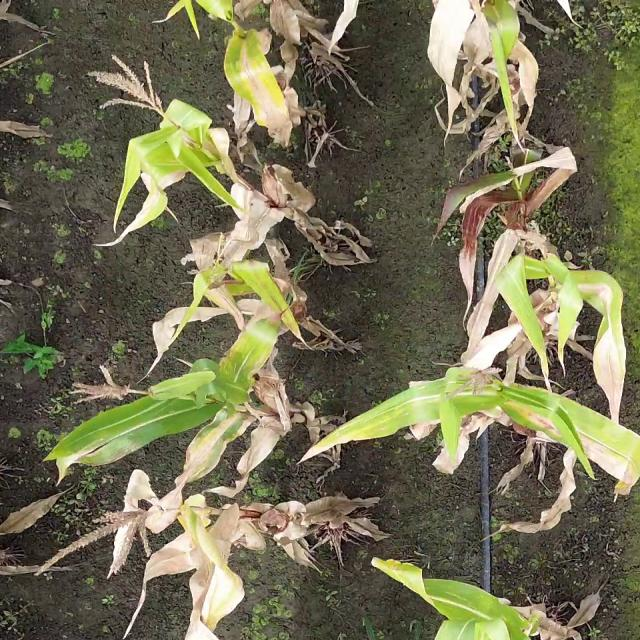northern-leaf-blight: (55, 402, 249, 481), (507, 405, 640, 499), (234, 46, 304, 149)
